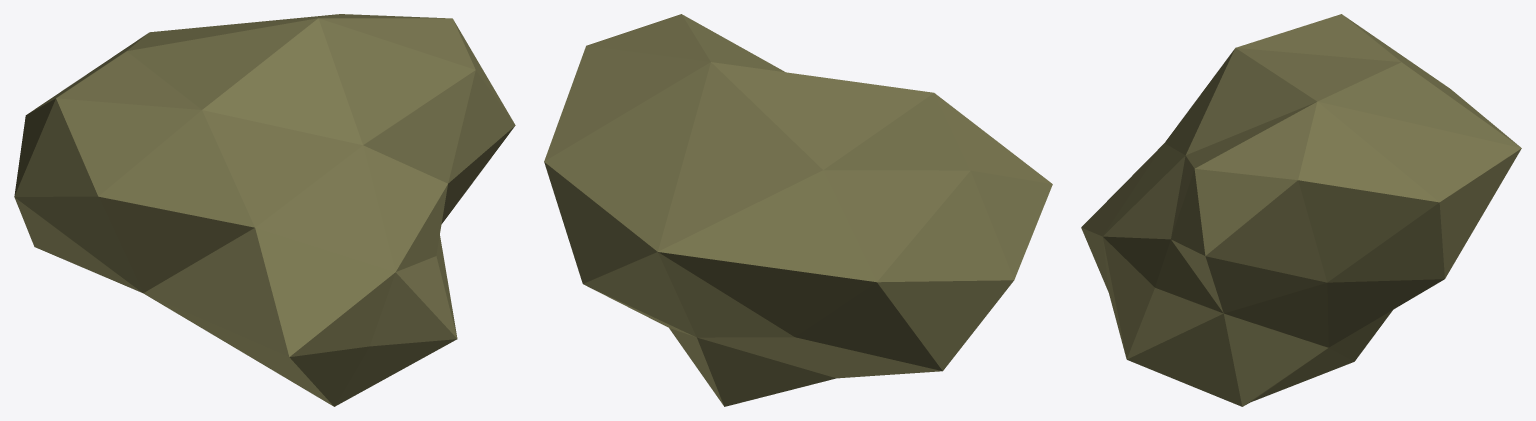
Rendered from Stein_002.gltf.
3 renders of one model, left to right at view 1: azimuth 30°, elevation 25°; view 2: azimuth 150°, elevation 25°; view 3: azimuth 270°, elevation 25°, orthographic. The views are drawn at different scales.
Visible parts, largest first — view 1: Stein.002-col; view 2: Stein.002-col; view 3: Stein.002-col.
Part boxes in pixels (x1,y1,x2,y2): Stein.002-col: (14, 14, 515, 406); Stein.002-col: (544, 14, 1052, 406); Stein.002-col: (1081, 14, 1521, 406).
Bounding box in the file's own units: 1.74 × 1.25 × 1.65.
